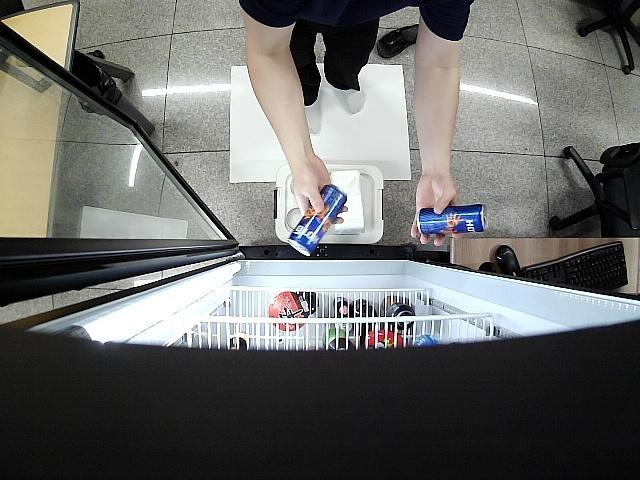16_hot6: (286, 182, 350, 260), (415, 204, 487, 236)
